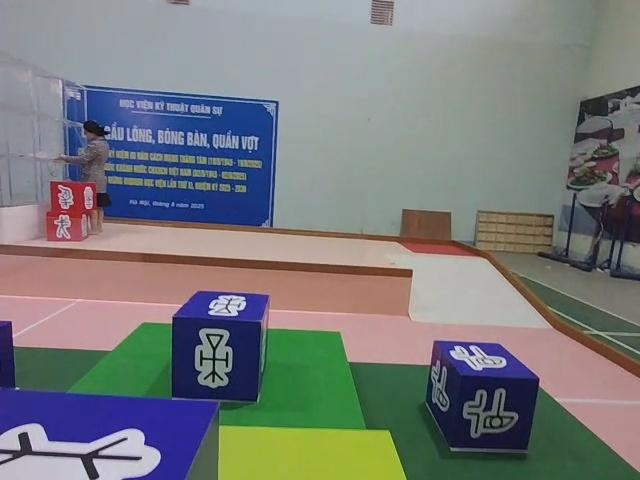R2 Real Blue: (426, 341, 540, 455), (171, 291, 270, 404), (0, 322, 15, 406)
